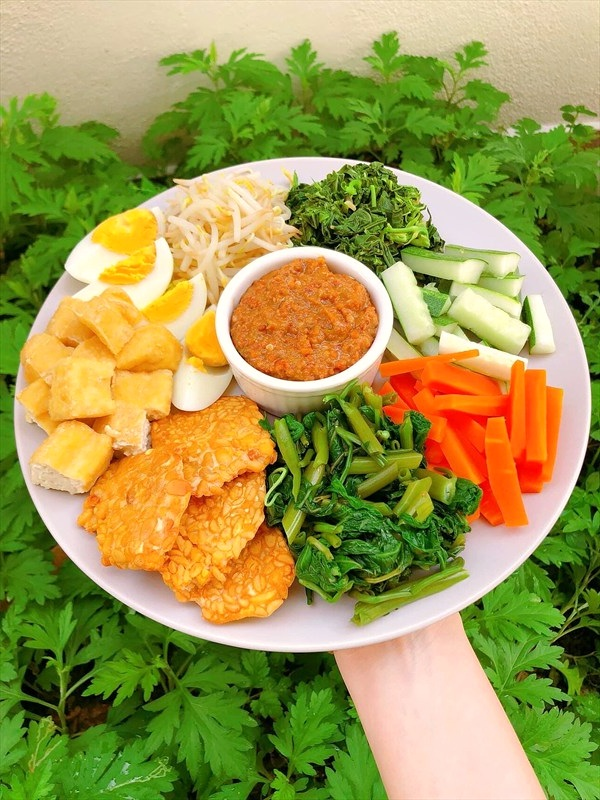Gado-Gado: (76, 165, 550, 648)
